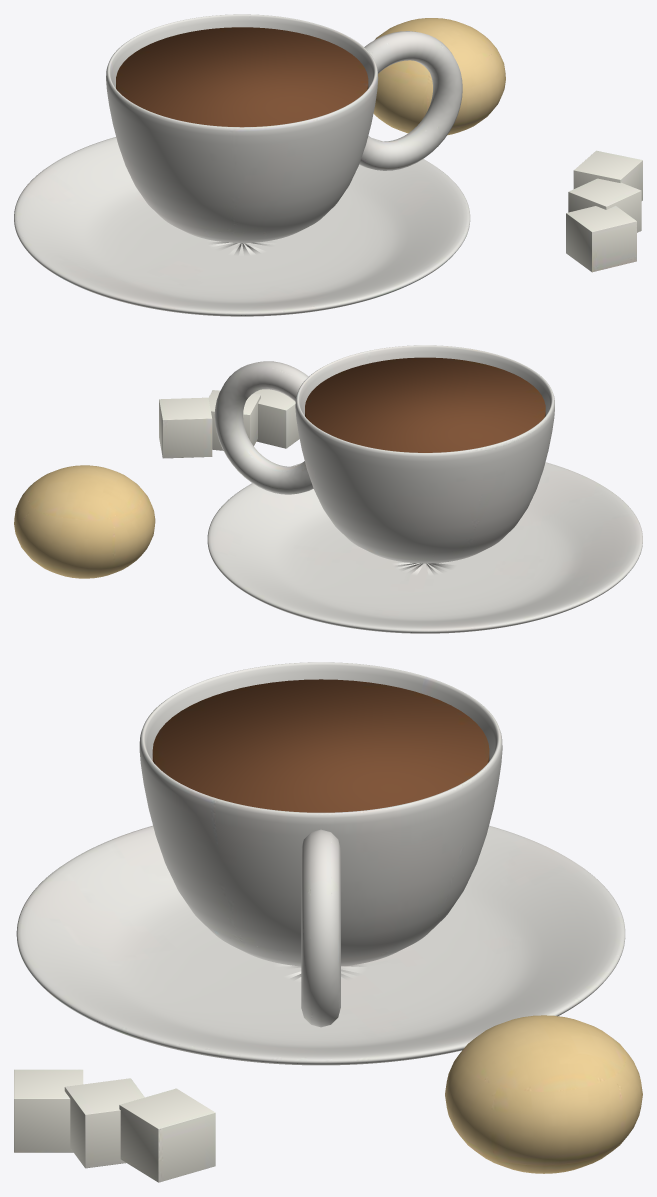
Rendered from chocolate.glb.
3 views of the same model, one above another, from view 1: azimuth 30°, elevation 25°; view 2: azimuth 150°, elevation 25°; view 3: azimuth 270°, elevation 25° (orthographic). The views are drawn at different scales.
Parts seen in each view (by area): view 1: chocolate; view 2: chocolate; view 3: chocolate.
Boxes of the visible parts, <box> form: chocolate: <box>14,14,642,316</box>; chocolate: <box>14,345,642,633</box>; chocolate: <box>14,662,642,1182</box>.
Size of the model in its own units: 0.2173 by 0.0713 by 0.1651.
1 material, 1 textured.
